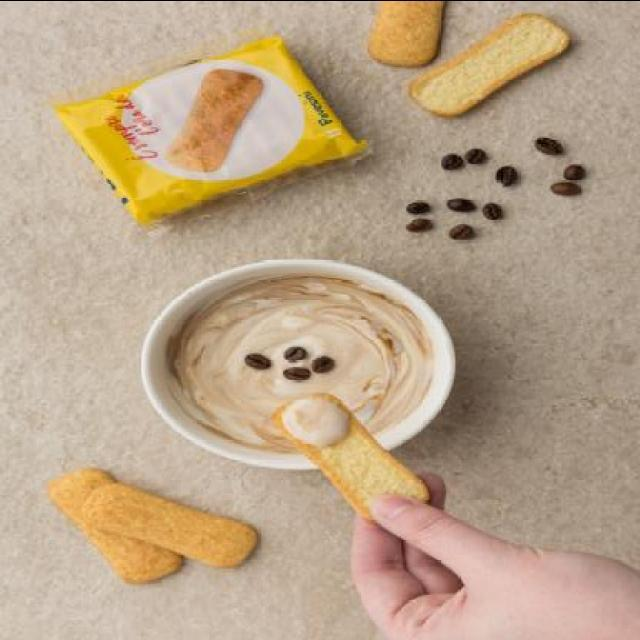Merendine: (58, 32, 376, 232)
Merendine packaged: (270, 391, 442, 518), (404, 11, 576, 112), (82, 487, 266, 567)
